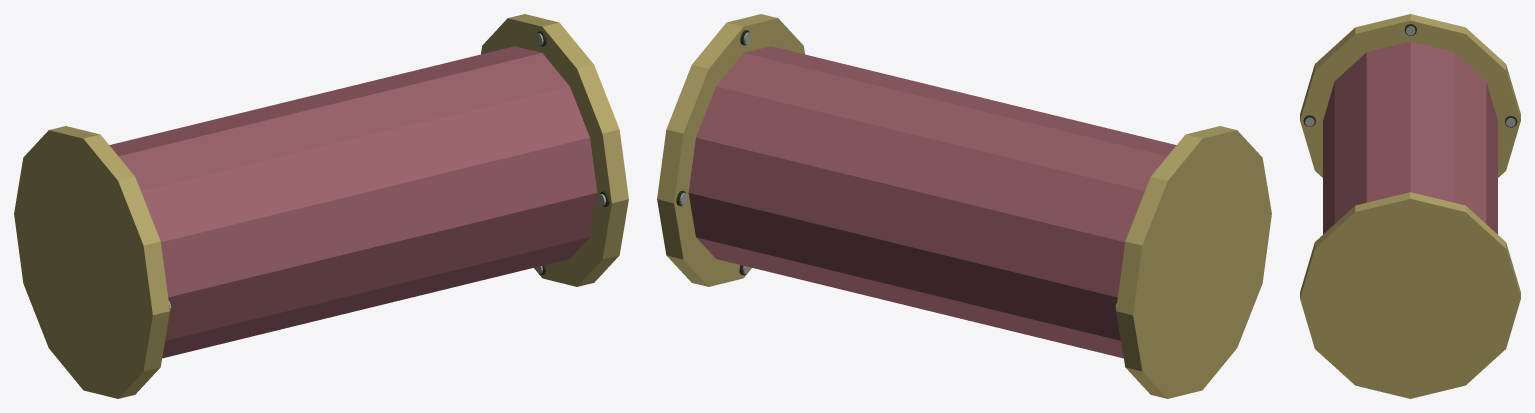
File: Pipe_Small.fbx
The picture shows the model from 3 angles, left to right: view 1: azimuth 30°, elevation 25°; view 2: azimuth 150°, elevation 25°; view 3: azimuth 270°, elevation 25°; orthographic projection. The views are drawn at different scales.
Visible parts, largest first — view 1: Pipe_Small, Cylinder.026, Cylinder.033; view 2: Pipe_Small, Cylinder.026, Cylinder.033; view 3: Cylinder.033, Pipe_Small, Cylinder.026.
Part boxes in pixels (x1,y1,x2,y2): Pipe_Small: (109, 46, 597, 358); Cylinder.026: (14, 126, 169, 398); Cylinder.033: (481, 14, 628, 286); Pipe_Small: (688, 46, 1176, 358); Cylinder.026: (1116, 126, 1271, 398); Cylinder.033: (657, 14, 804, 286); Cylinder.033: (1300, 192, 1520, 398); Pipe_Small: (1323, 41, 1497, 234); Cylinder.026: (1300, 14, 1520, 177).
Size of the model in its own units: 30 by 15.16 by 15.16.
